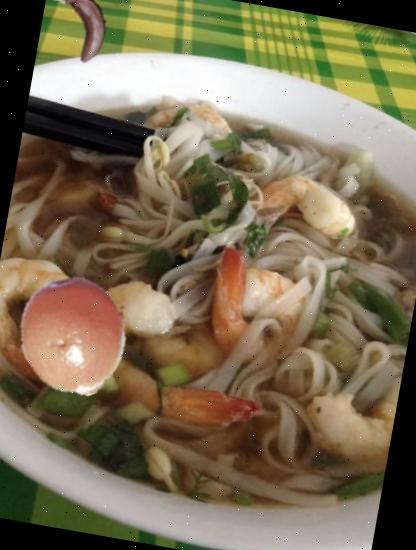Banana: (40, 0, 127, 68)
Tangelo: (4, 268, 145, 408)
